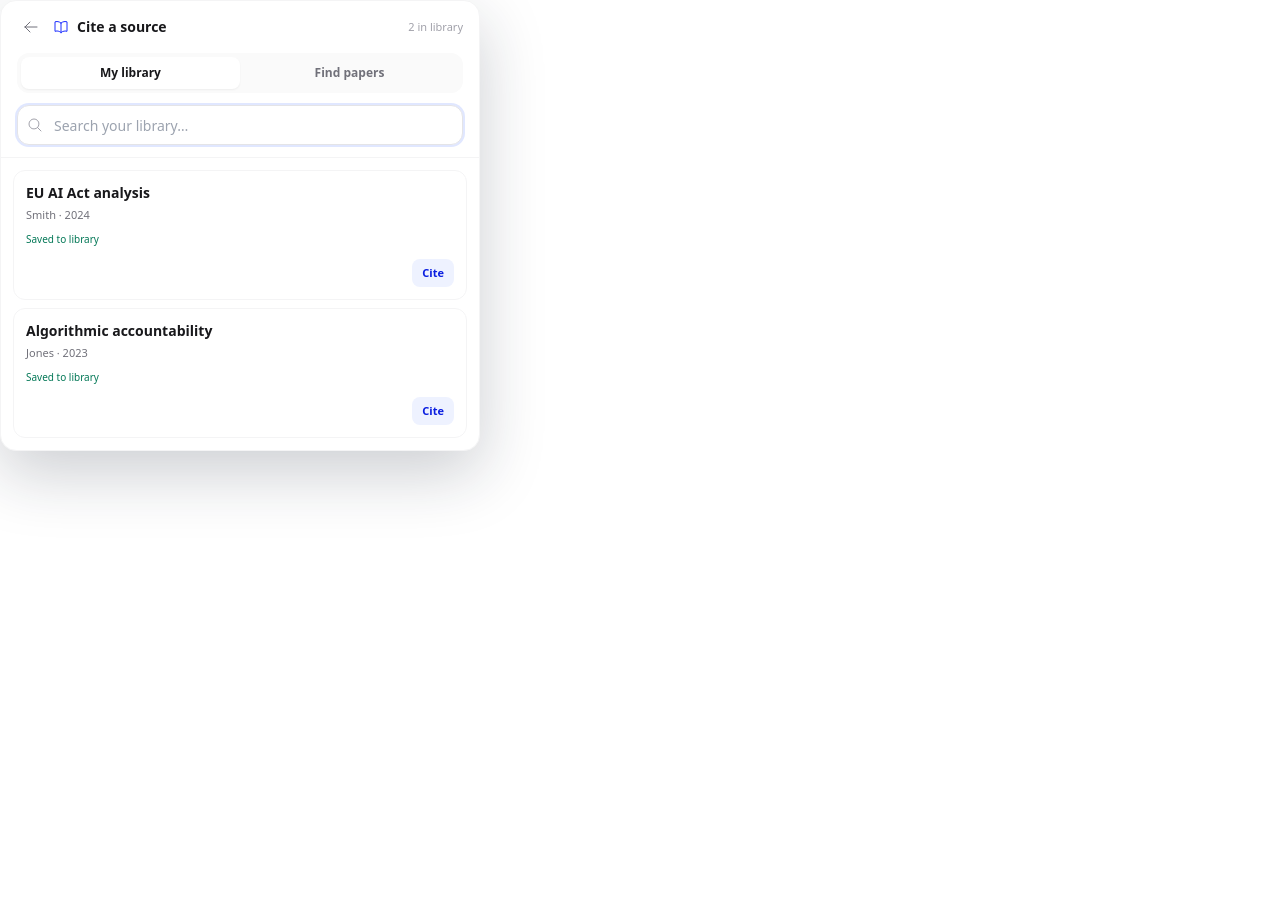
Test: CitePopover › uses selected prose to seed Find papers without filtering the library
Expected: the text "Smith · 2024" is shown, [26,207,90,222]
Expected: the text "Jones · 2023" is shown, [26,345,88,360]
Click the button "Find papers". click: (350, 73)
box: [240,57,459,89]
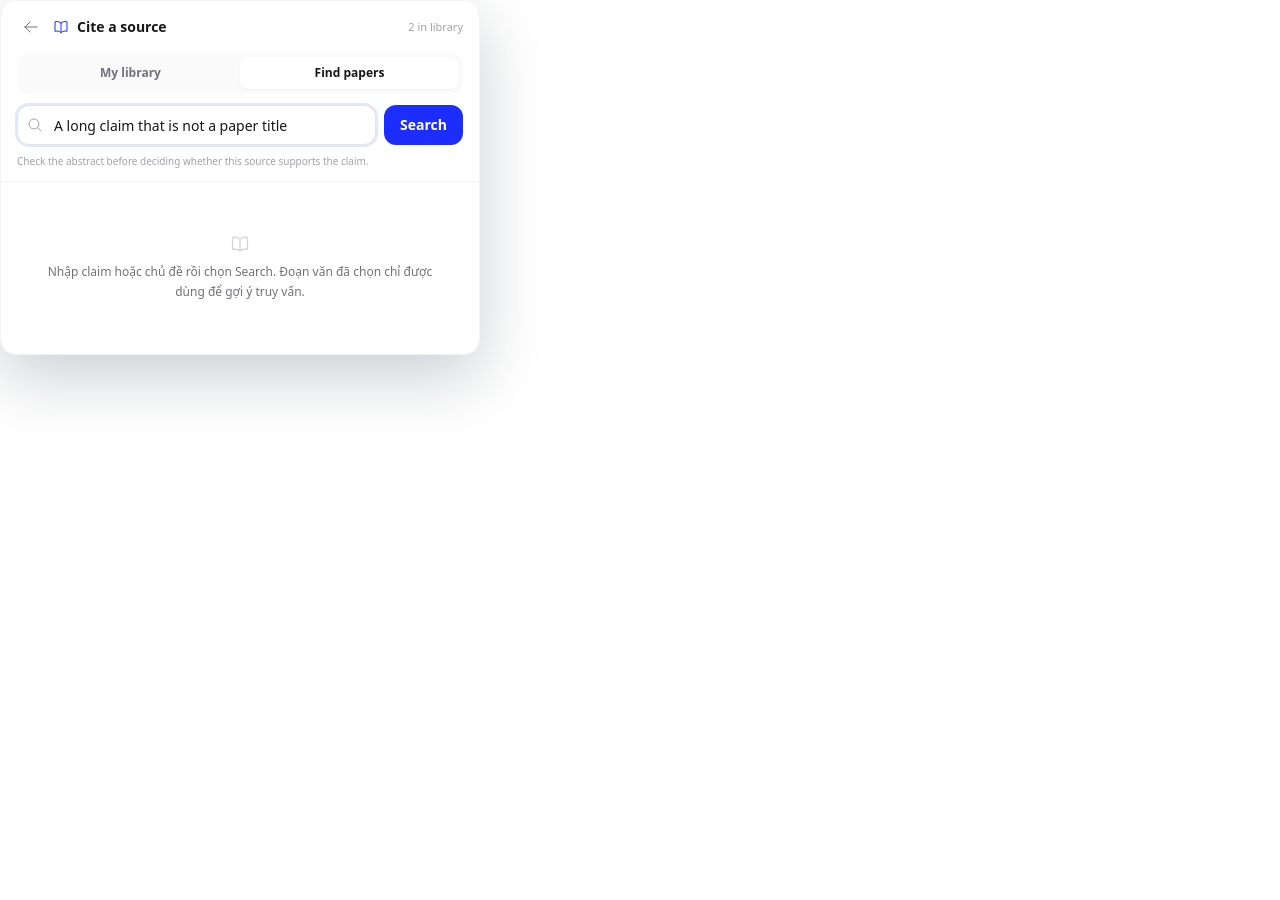
Result: the field holds "A long claim that is not a paper title" at [17,105,376,145]
